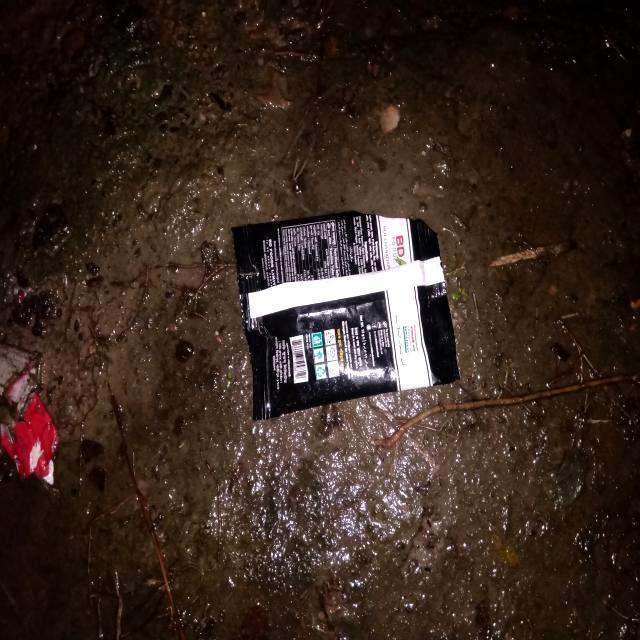packet: (246, 205, 448, 399)
